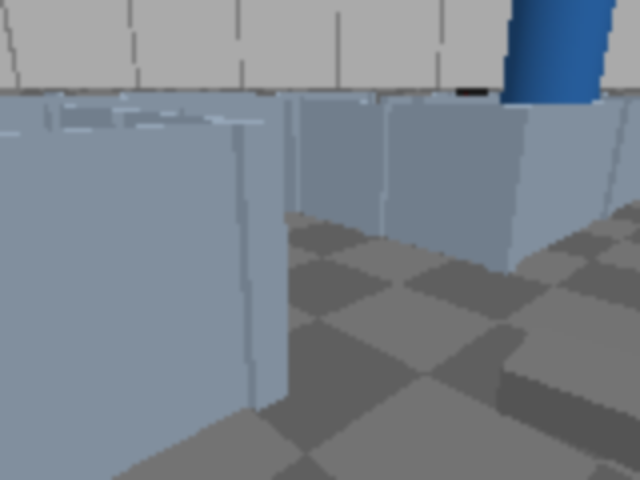obstacle: (495, 326, 638, 476)
